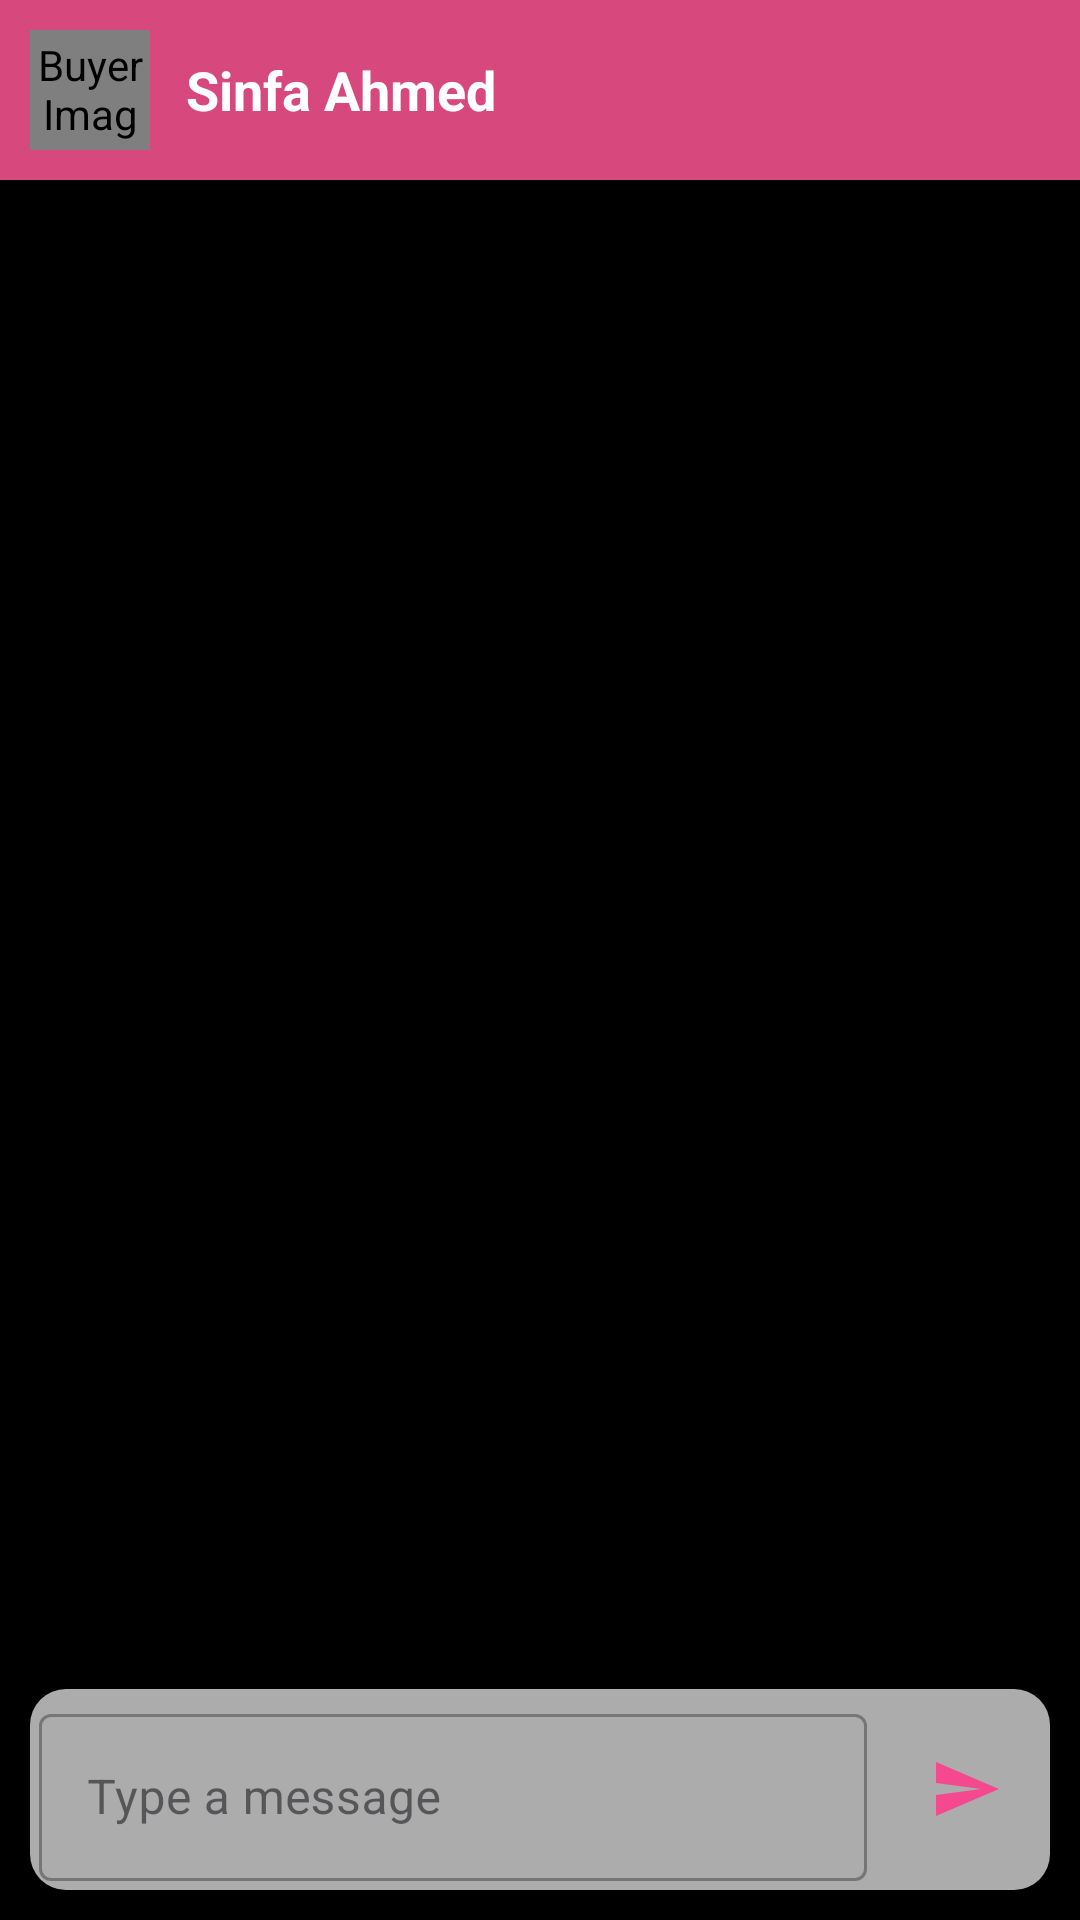

Icon click points for this 1080 x 1920 phone screenshot, format (x=x, y=y):
Send: (x=967, y=1789)
